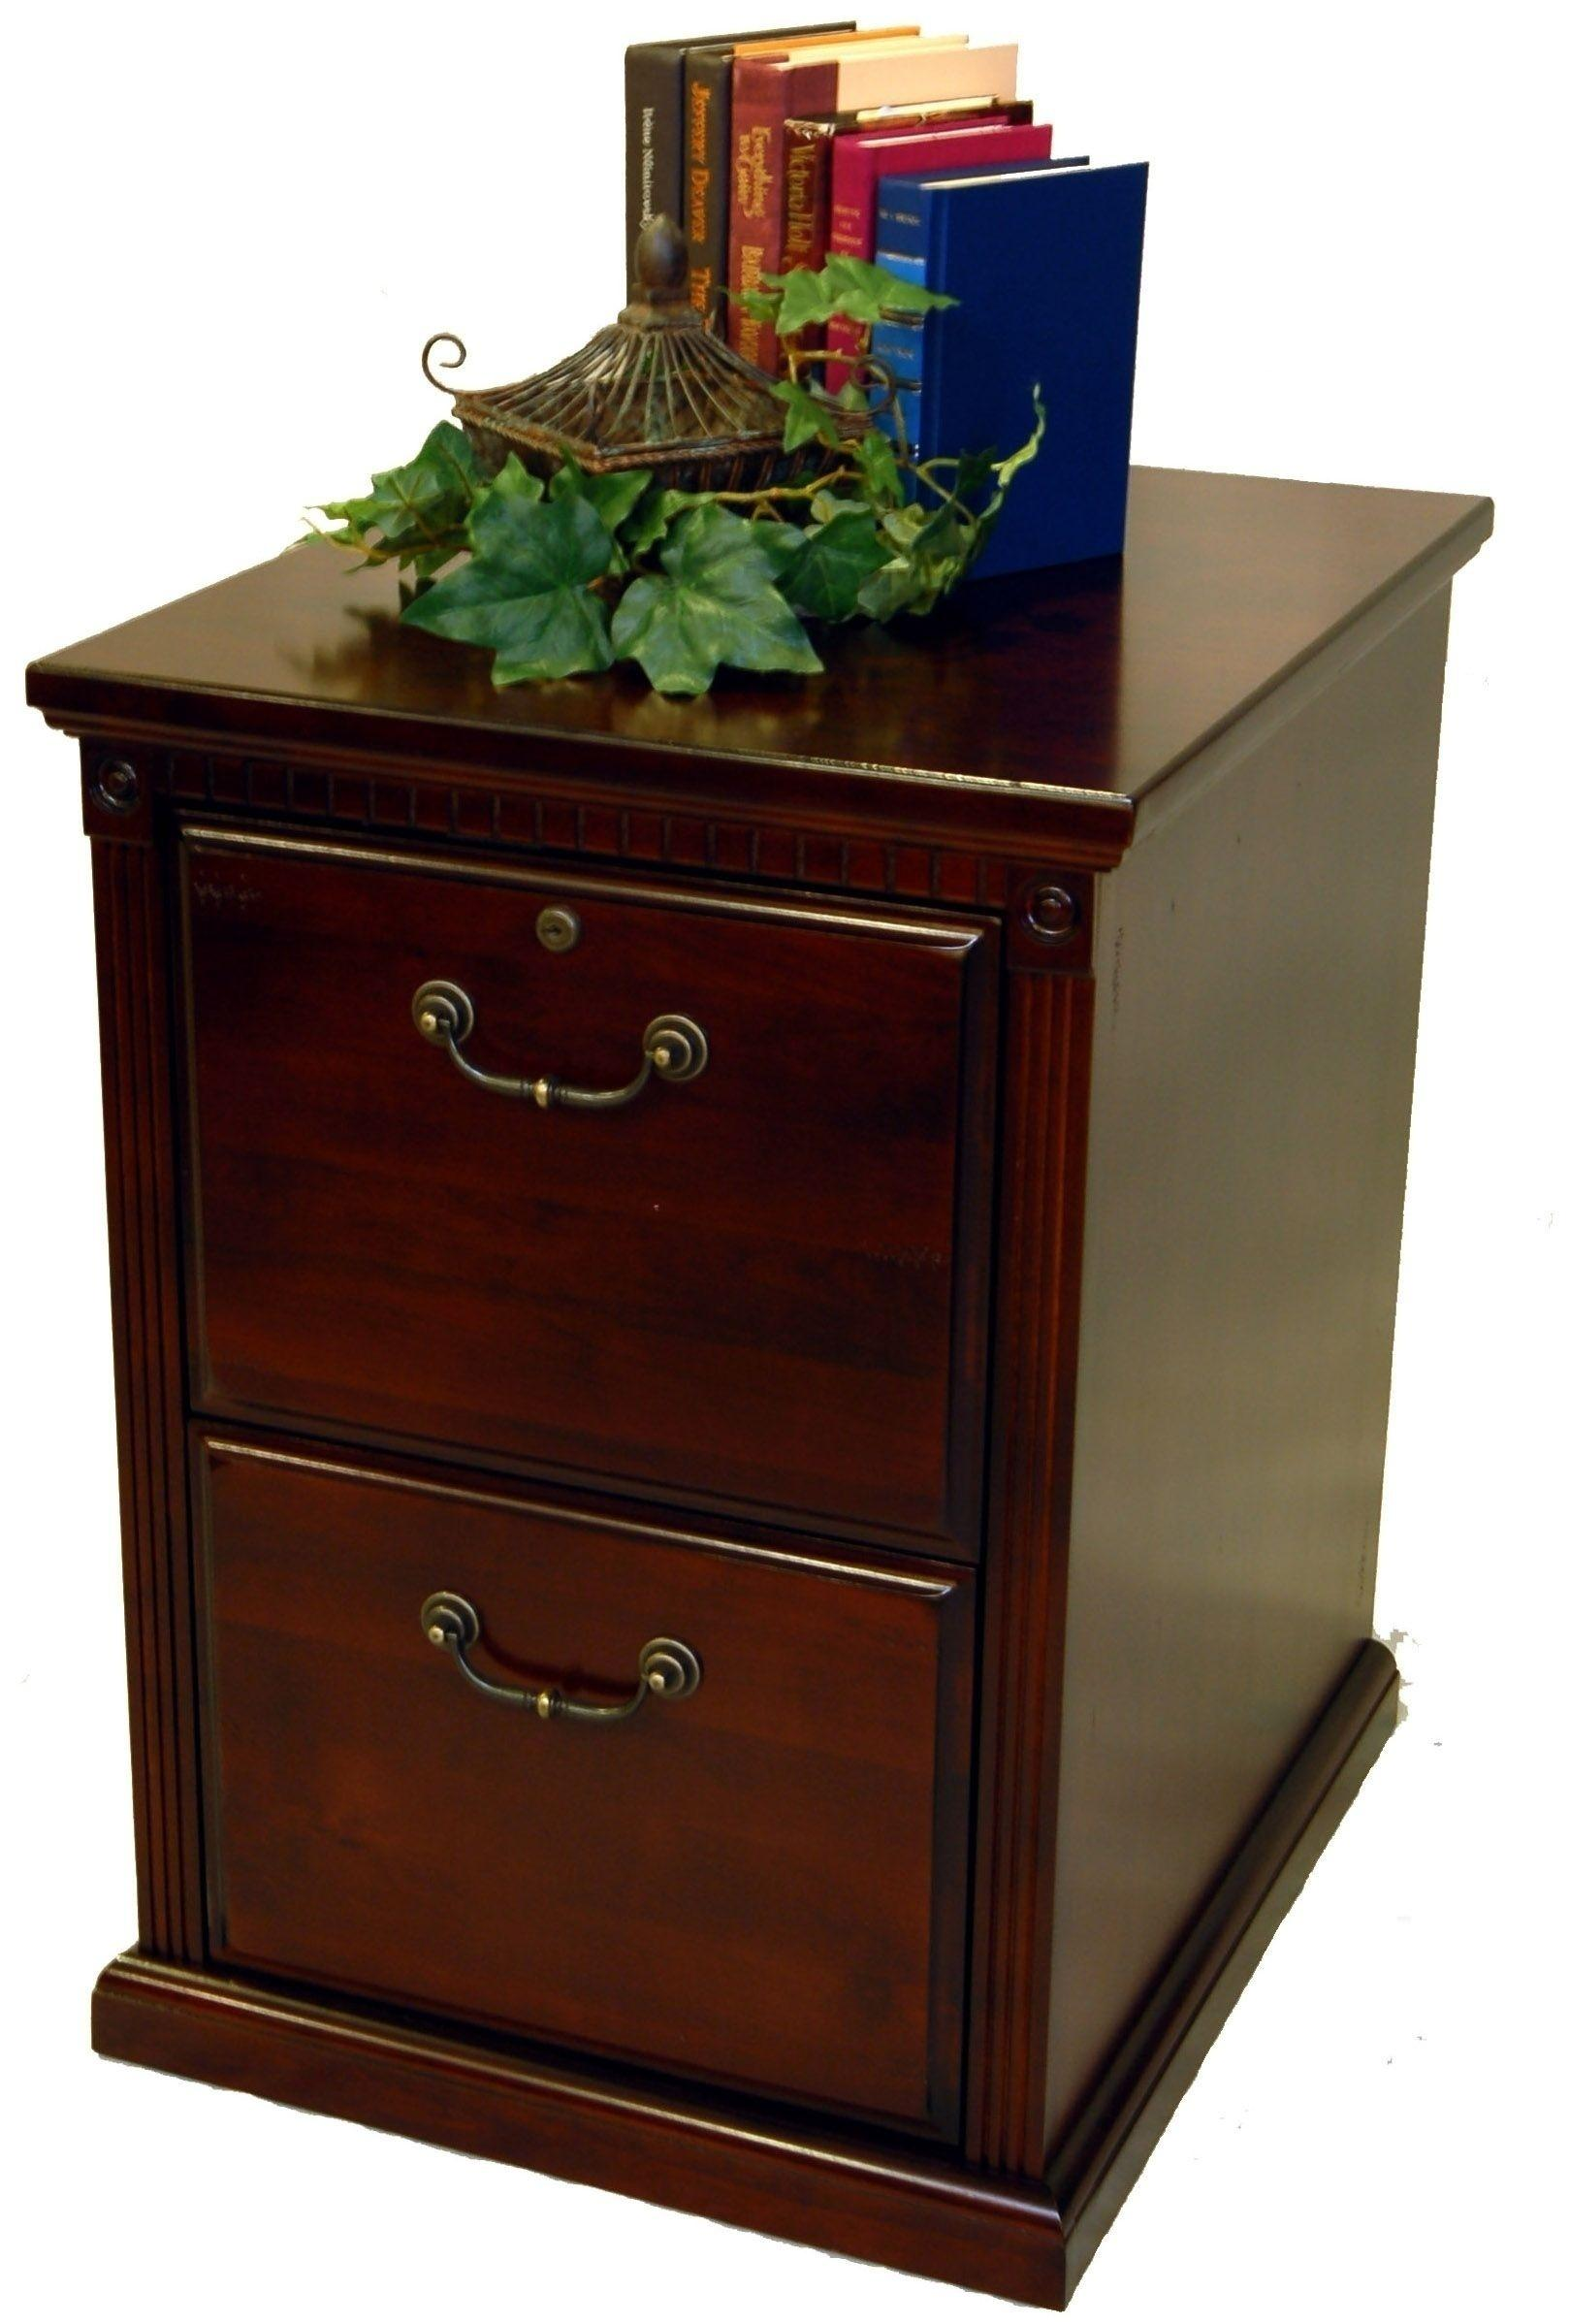cabinet_door: (202, 1432, 965, 2096), (196, 848, 967, 1446)
handle: (424, 1567, 708, 1770), (419, 973, 715, 1144)
